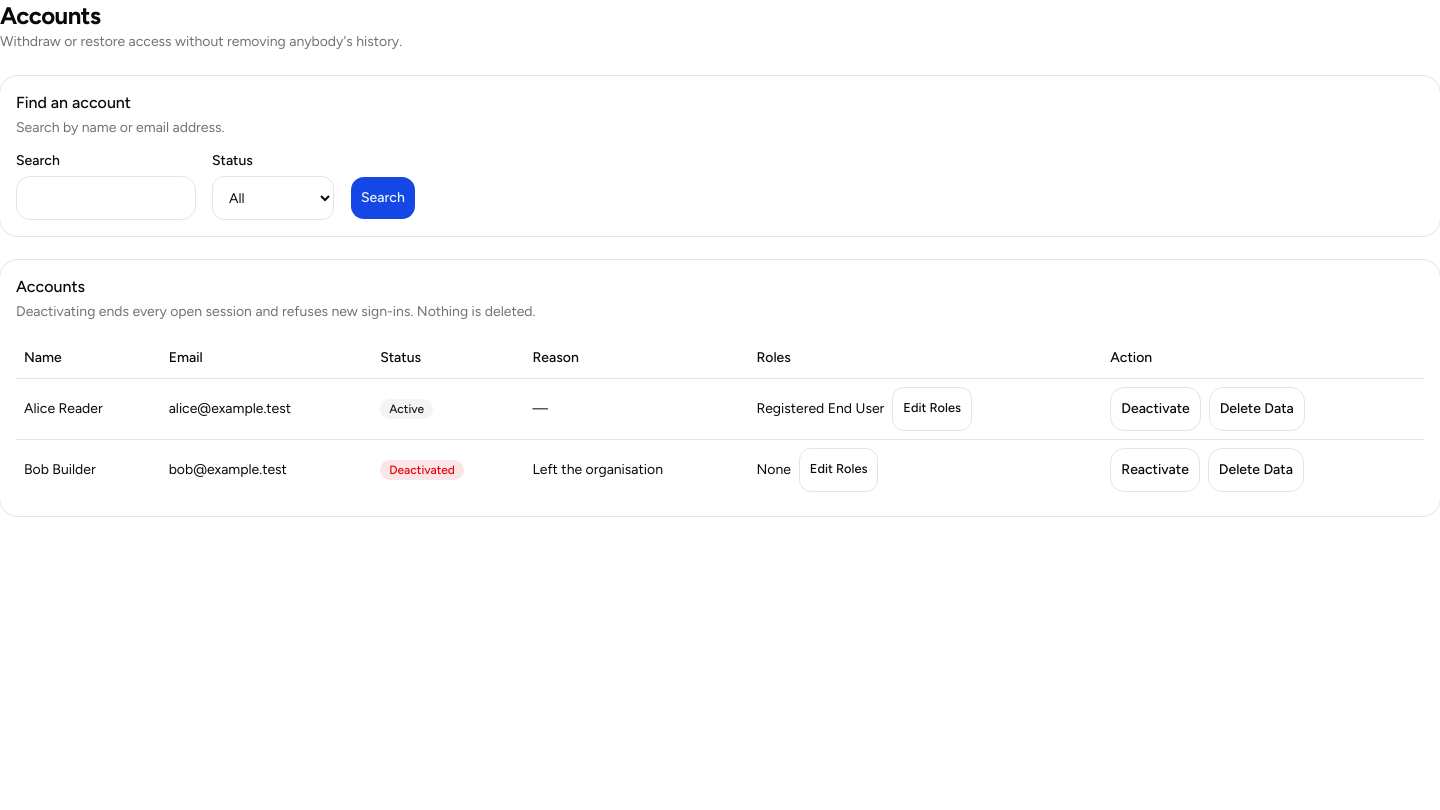
Scenario: AccountManagementView › shows each role with the permission keys it carries
Step 1. Click the button "Edit Roles" next to "Registered End User" → (932, 408), box [892,386,972,430]
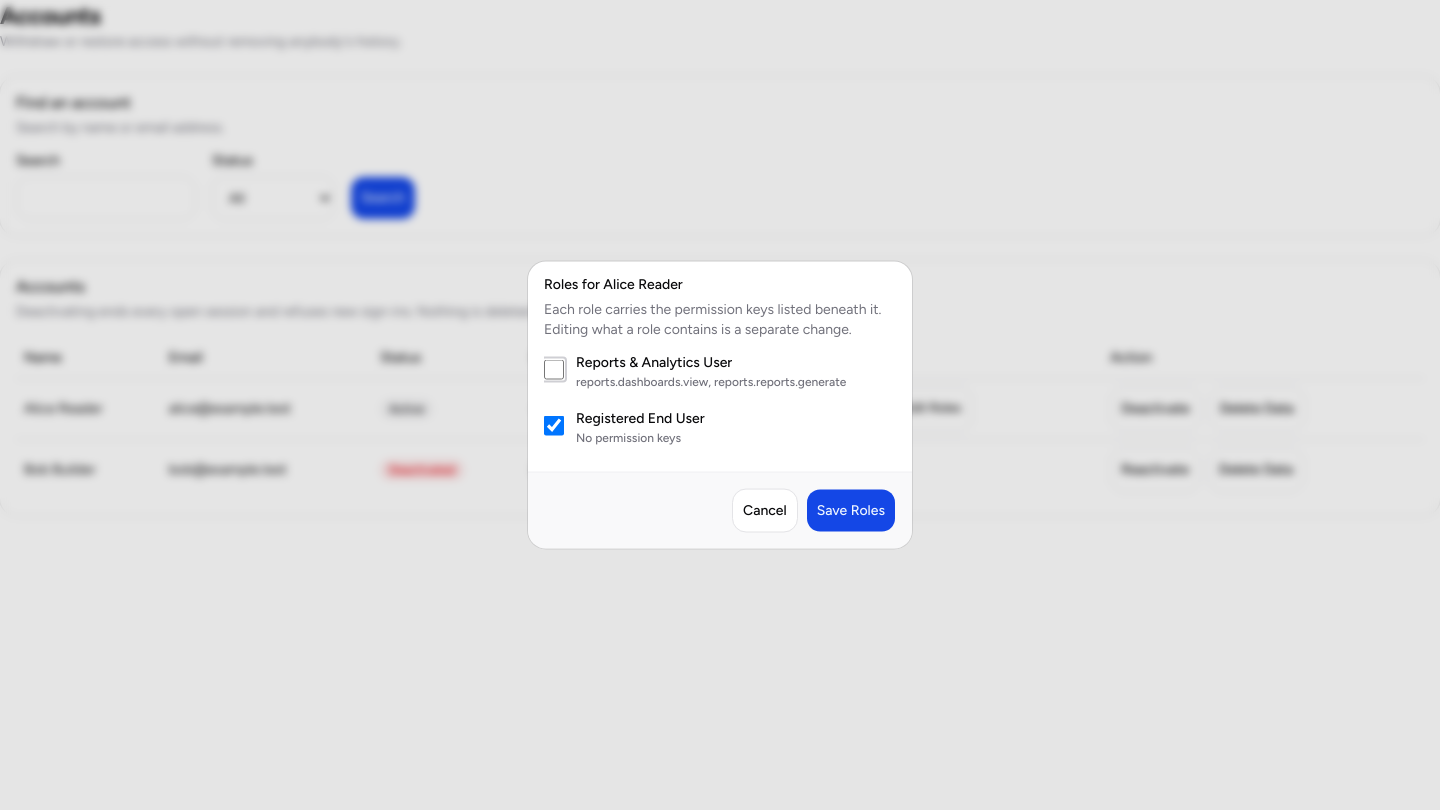
Expected: the text "reports.dashboards.view, reports.reports.generate" is shown, [576,374,846,390]
Expected: the text "No permission keys" is shown, [576,430,681,446]
